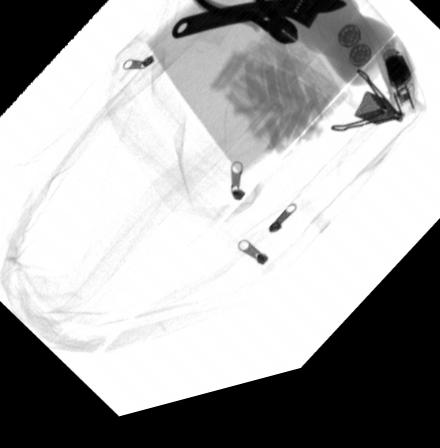Pliers: (184, 0, 299, 62)
Wrench: (171, 0, 350, 49)
